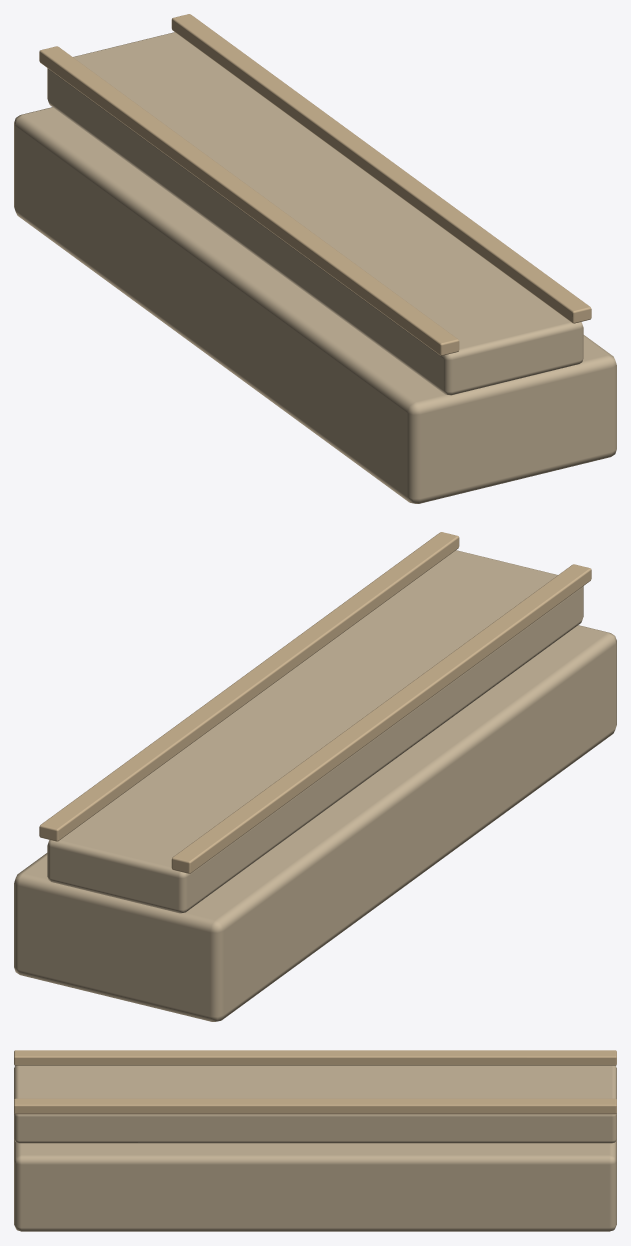
Rendered from coastal-saltworks-and-trade-port-coastal-saltworks-and-a8482575__31365.glb.
The picture shows the model from 3 angles, top to bottom: view 1: azimuth 30°, elevation 25°; view 2: azimuth 150°, elevation 25°; view 3: azimuth 270°, elevation 25°; orthographic projection. The views are drawn at different scales.
Parts seen in each view (by area): view 1: coastal-saltworks-and-trade-port-embankment-straight; view 2: coastal-saltworks-and-trade-port-embankment-straight; view 3: coastal-saltworks-and-trade-port-embankment-straight.
Part boxes in pixels (x1,y1,x2,y2): coastal-saltworks-and-trade-port-embankment-straight: (14, 14, 616, 503); coastal-saltworks-and-trade-port-embankment-straight: (14, 532, 616, 1021); coastal-saltworks-and-trade-port-embankment-straight: (14, 1050, 616, 1231).
Size of the model in its own units: 0.5999 by 0.4349 by 2.
